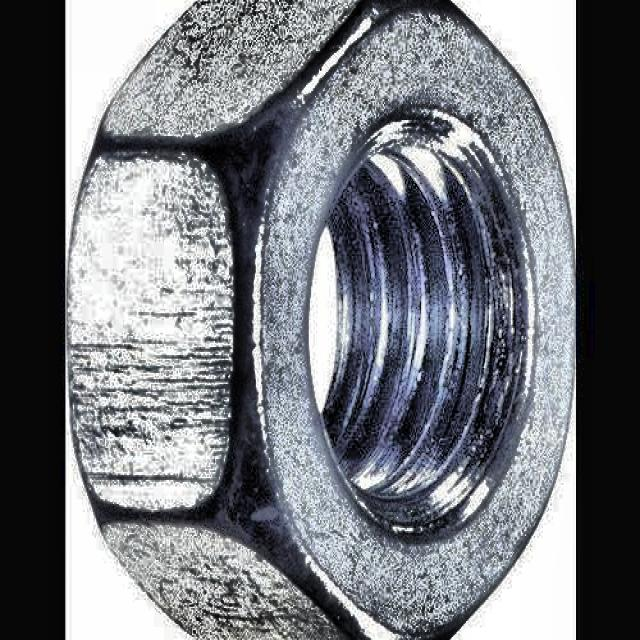Nut Detection - v1 Nut Dataset: (65, 0, 577, 638)
